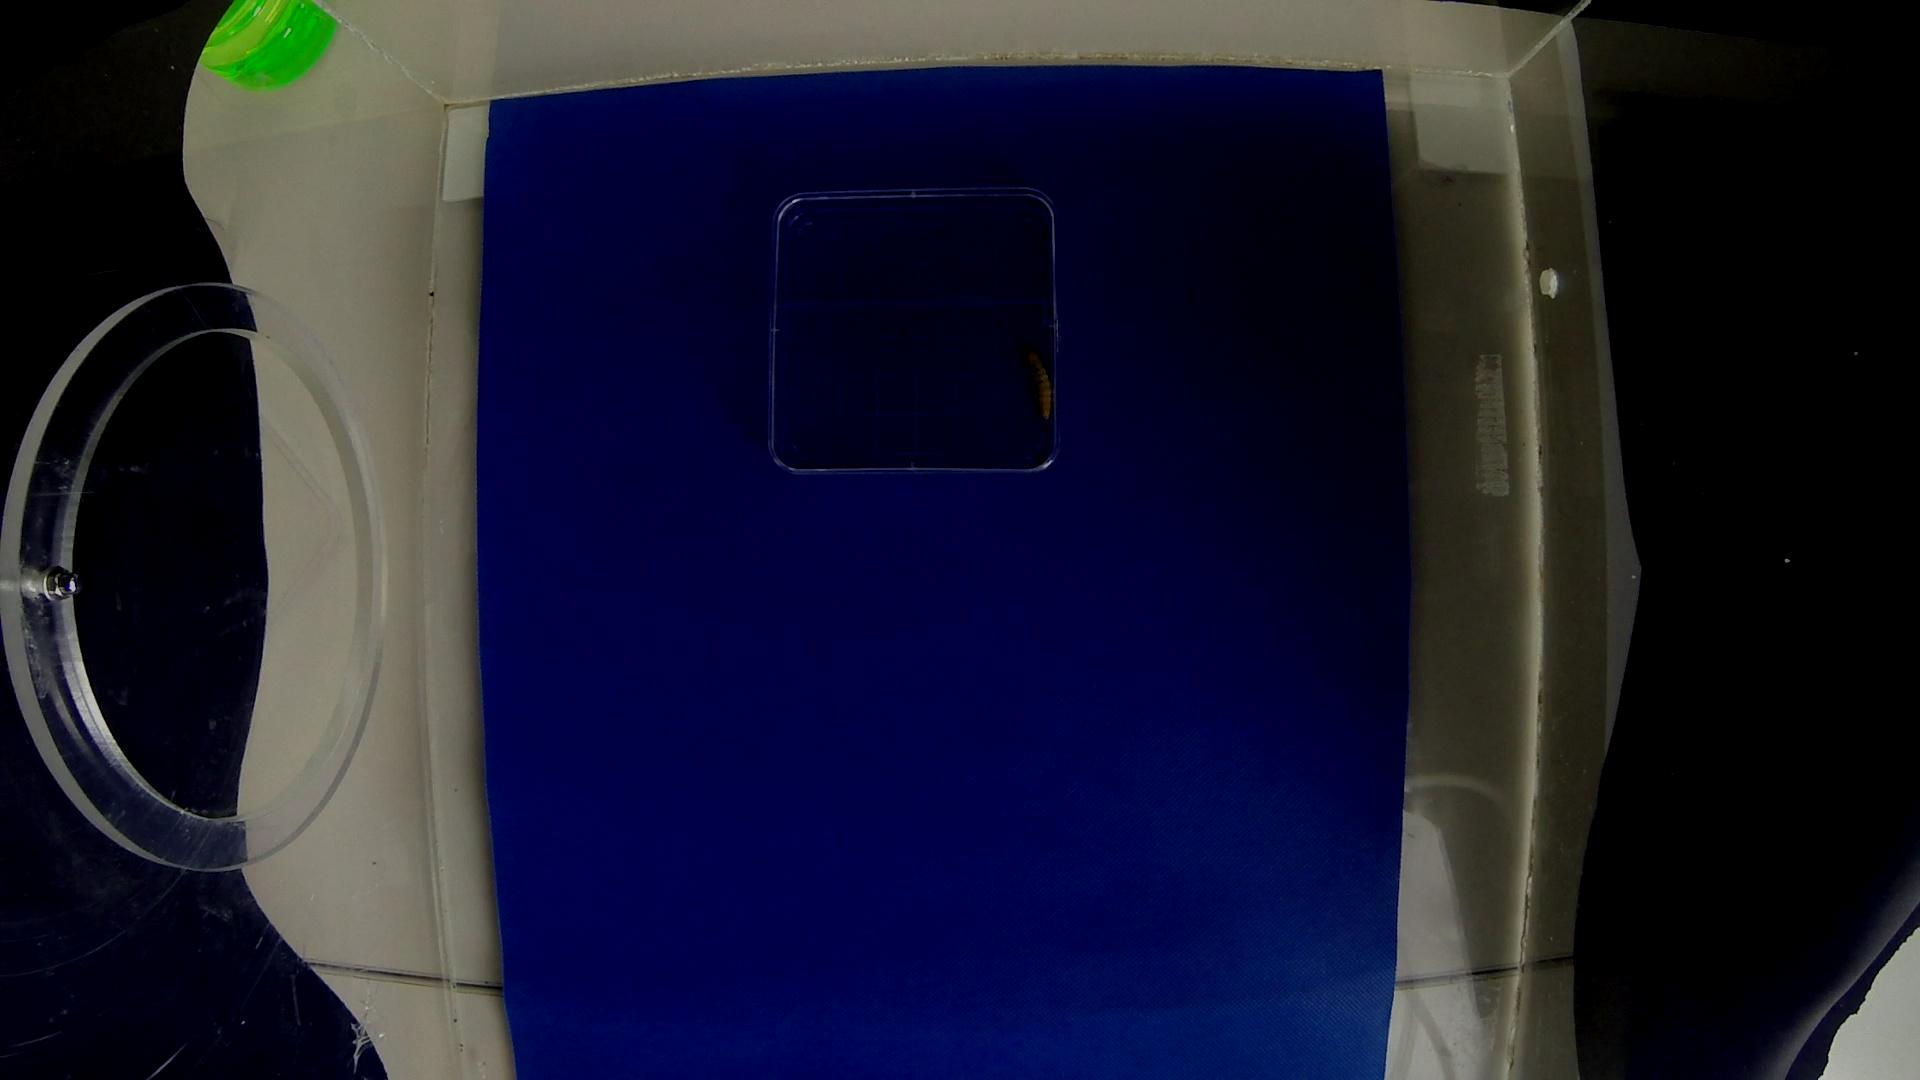larva: (1028, 340, 1057, 427)
